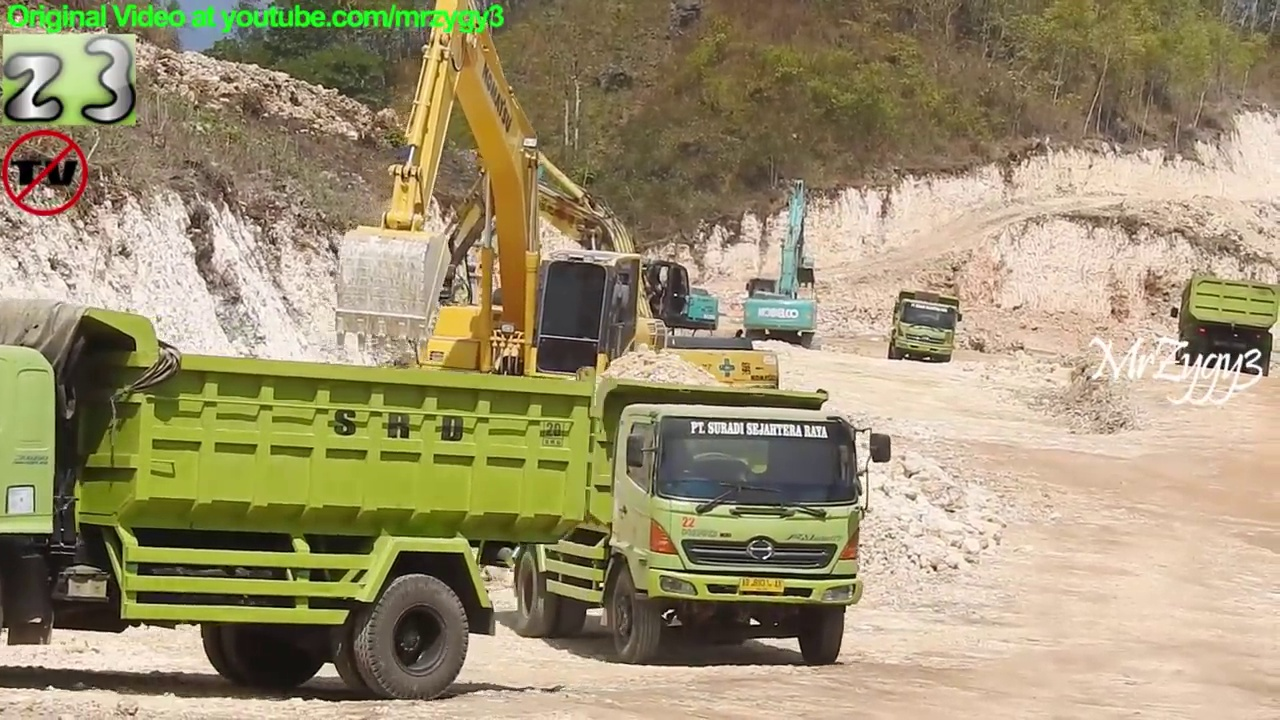excavator: (327, 1, 705, 527), (400, 127, 784, 479), (492, 152, 734, 378), (741, 174, 826, 351)
truck: (2, 289, 622, 703), (506, 365, 893, 671), (1169, 275, 1280, 380), (886, 283, 967, 367)
